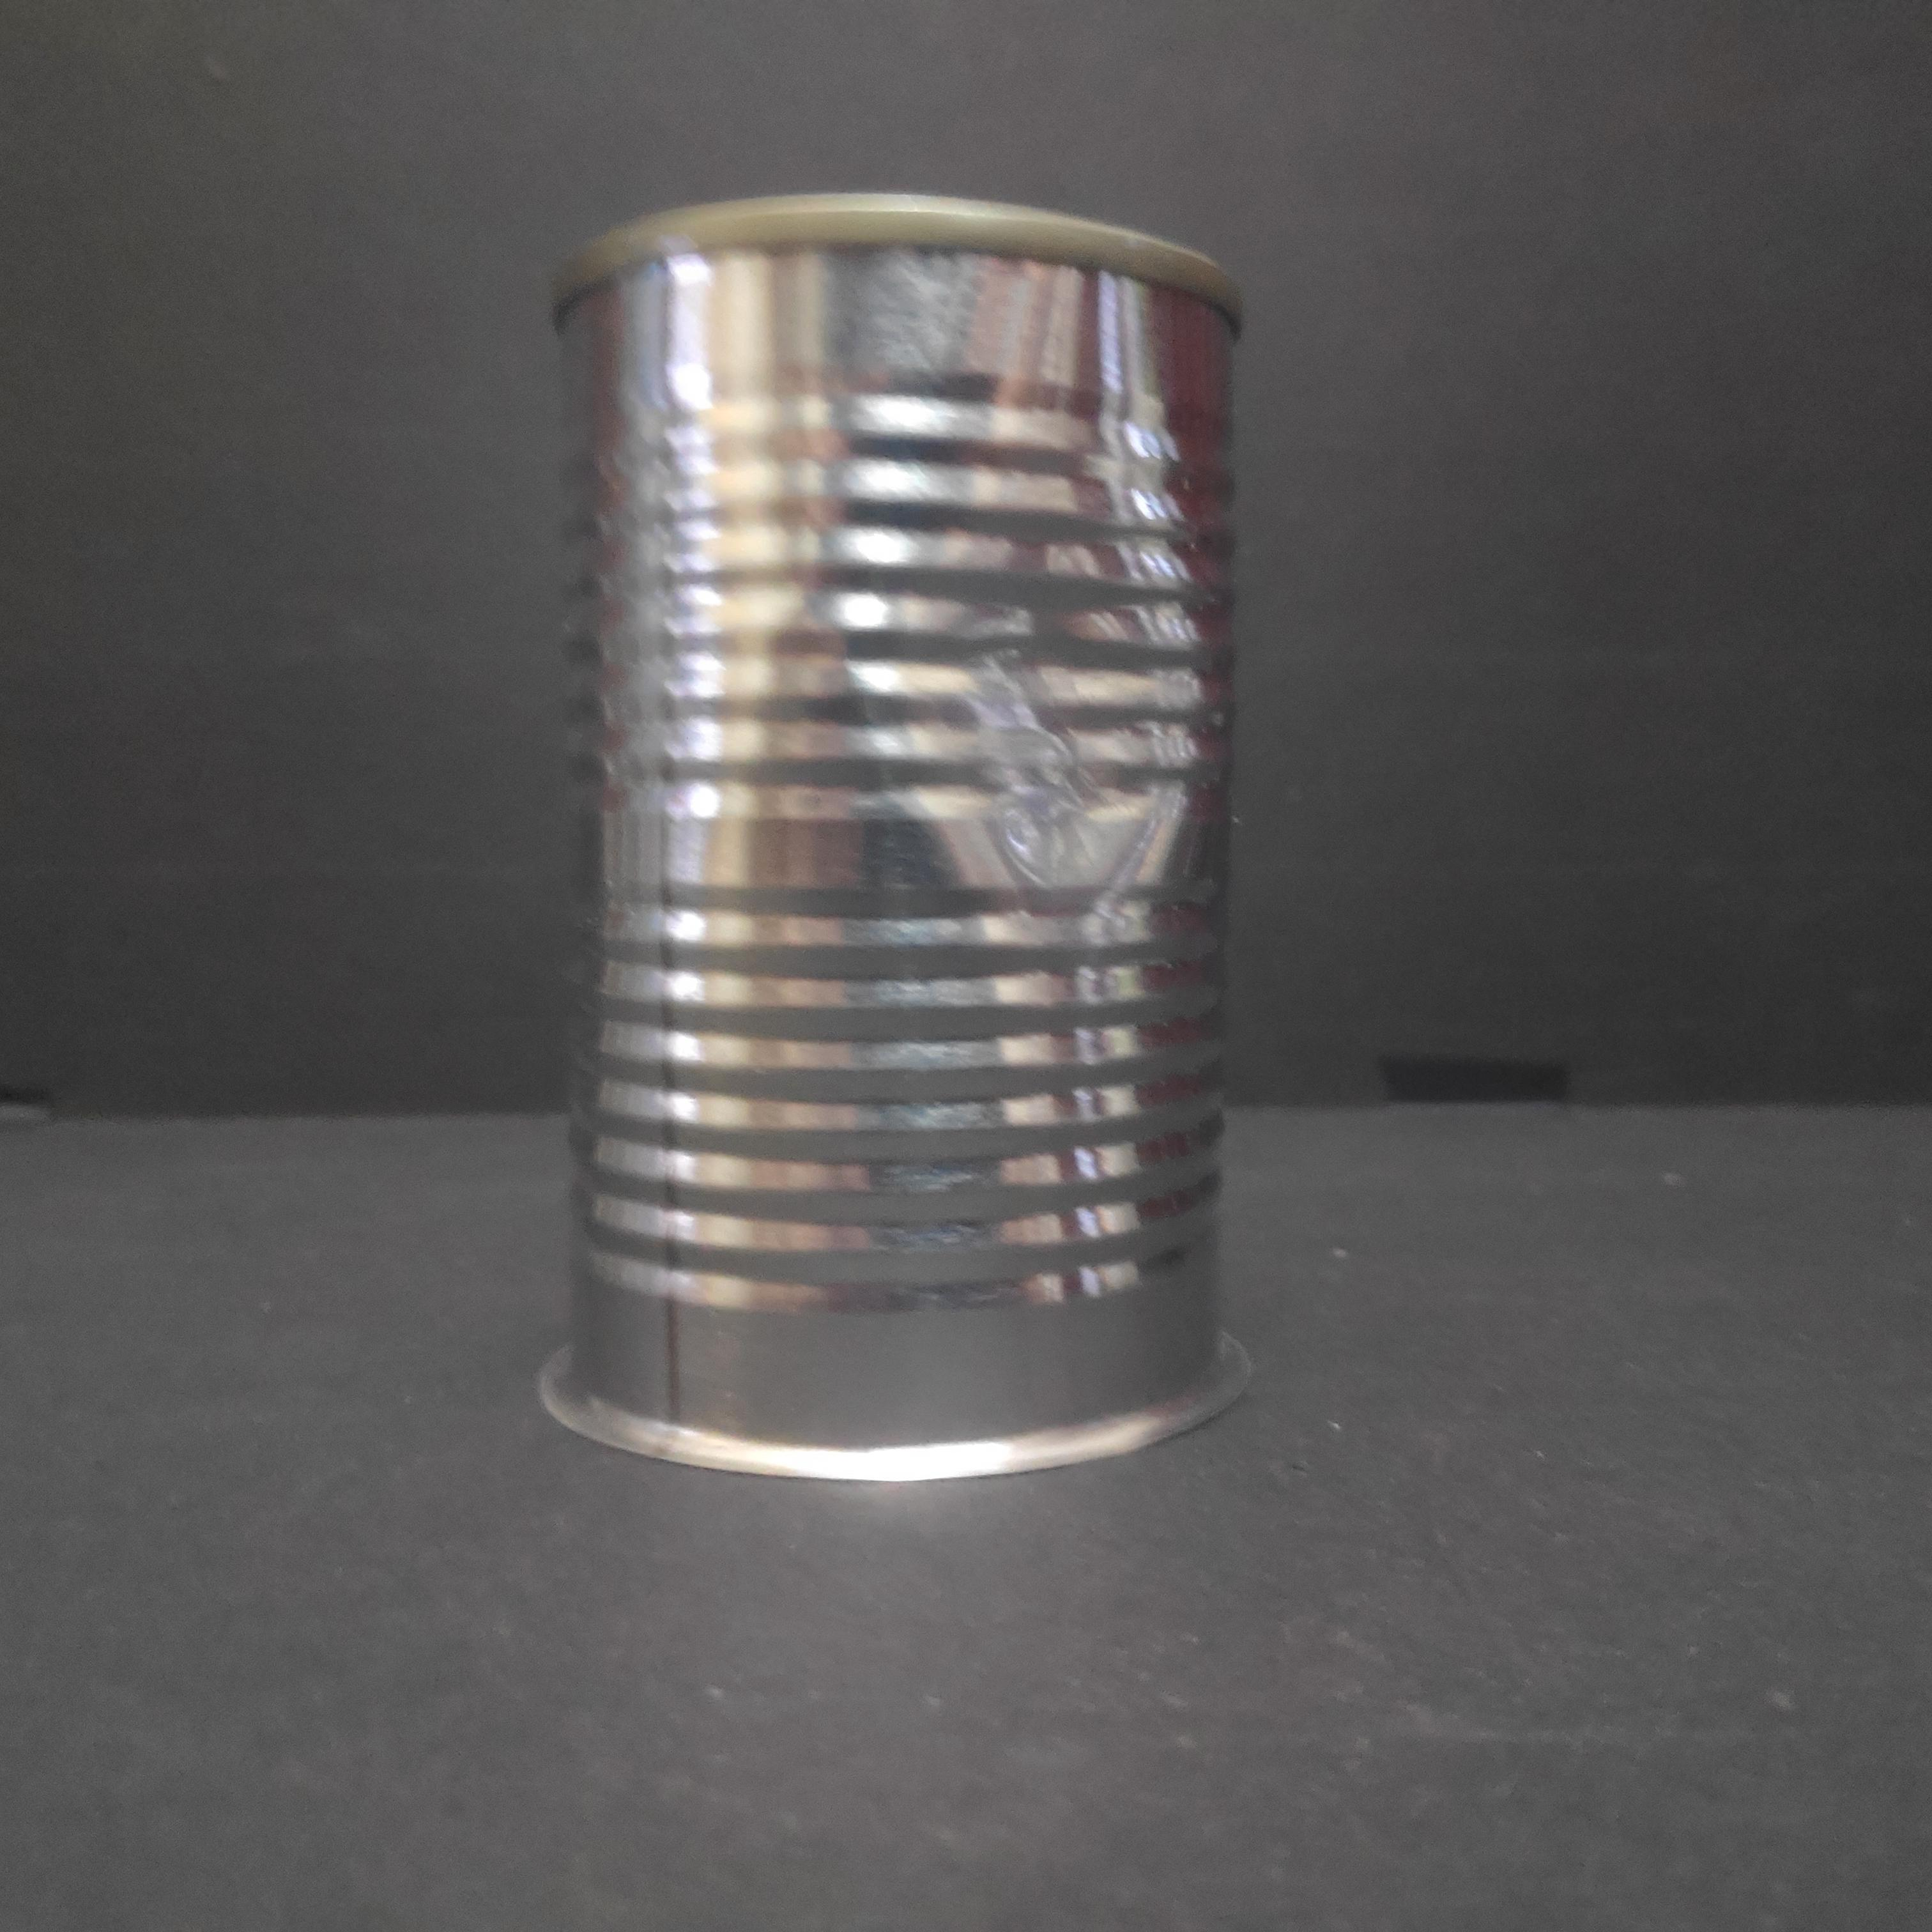Dented: (527, 163, 1290, 1486)
